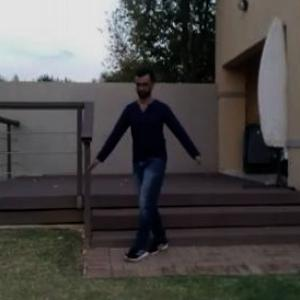land: (100, 76, 216, 266)
